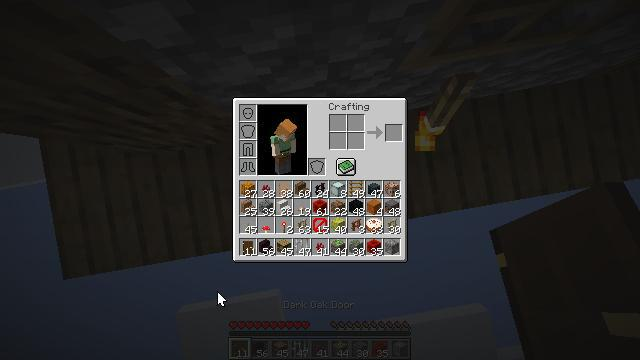cursor: (217, 291, 227, 307)
